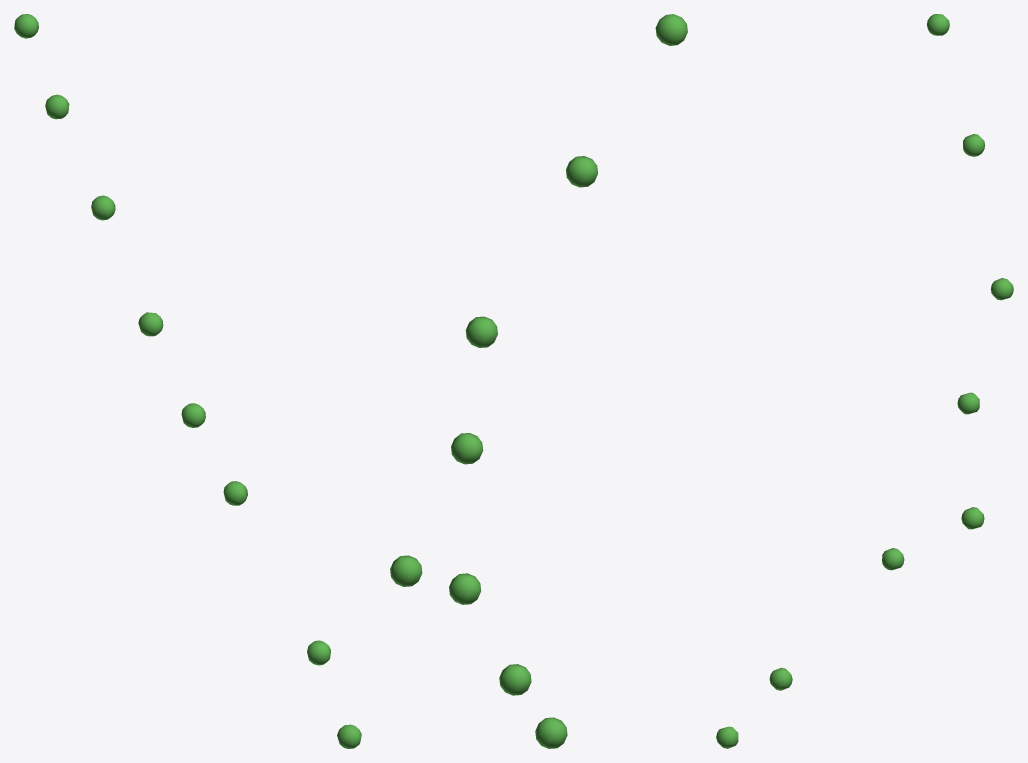
File: linfatico-medial-external-iliac-nodes-l.glb
The picture shows the model from 3 angles, left to right: view 1: azimuth 30°, elevation 25°; view 2: azimuth 150°, elevation 25°; view 3: azimuth 270°, elevation 25°; orthographic projection. The views are drawn at different scales.
Parts seen in each view (by area): view 1: Medial external iliac nodes.l; view 2: Medial external iliac nodes.l; view 3: Medial external iliac nodes.l.
Boxes of the visible parts, x1,y1,x2,y2 form: Medial external iliac nodes.l: (14,14,361,748); Medial external iliac nodes.l: (390,14,687,748); Medial external iliac nodes.l: (716,14,1013,748).
Bounding box in the file's own units: 0.0272 × 0.0794 × 0.0335.
